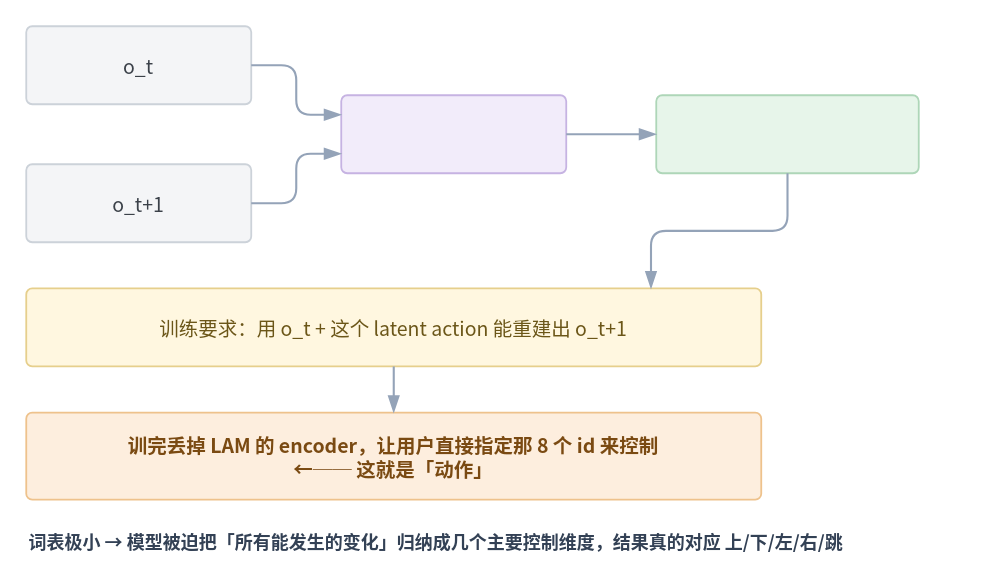
This 983x588 diagram has some shape labels left out. The shapes that lost their labels are listed below. From the top down, each one's box as (x1, y1, x2, y2) in pixels, then its label:
(340, 94, 566, 173): LAM 一个 VQ-VAE
(655, 94, 919, 173): 离散 latent action 词表只有 8
